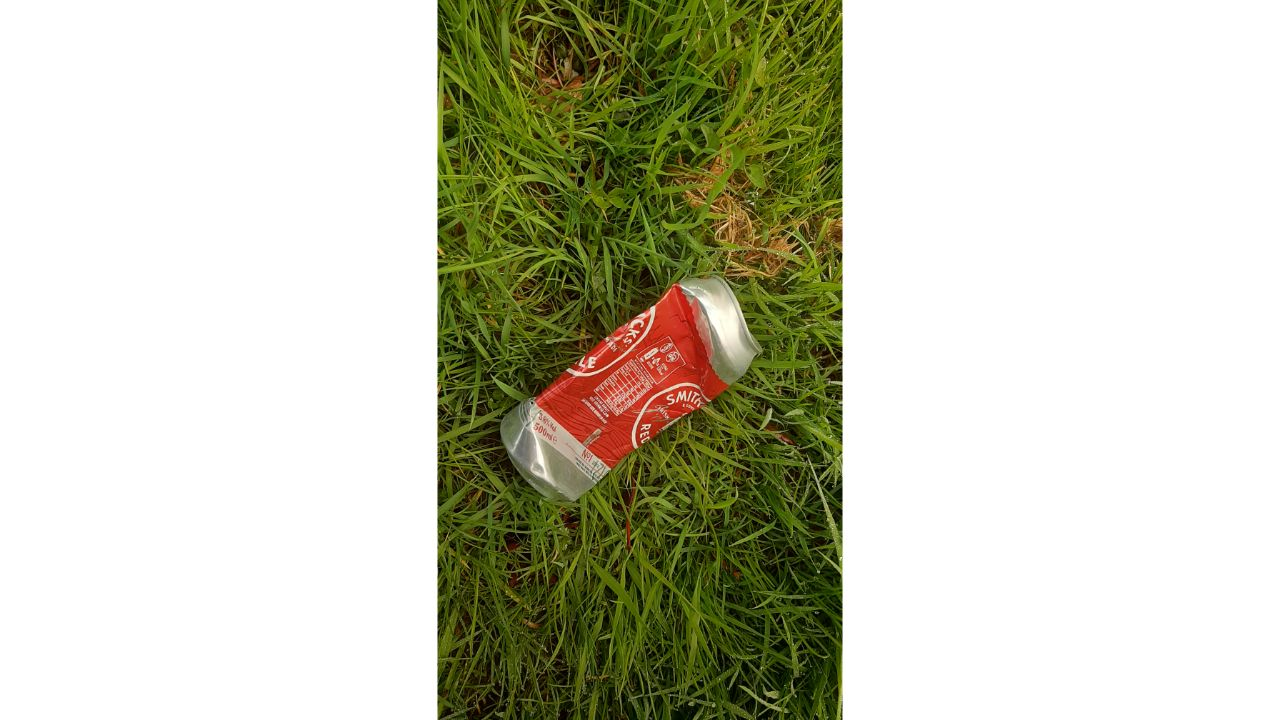Can: (491, 263, 769, 513)
